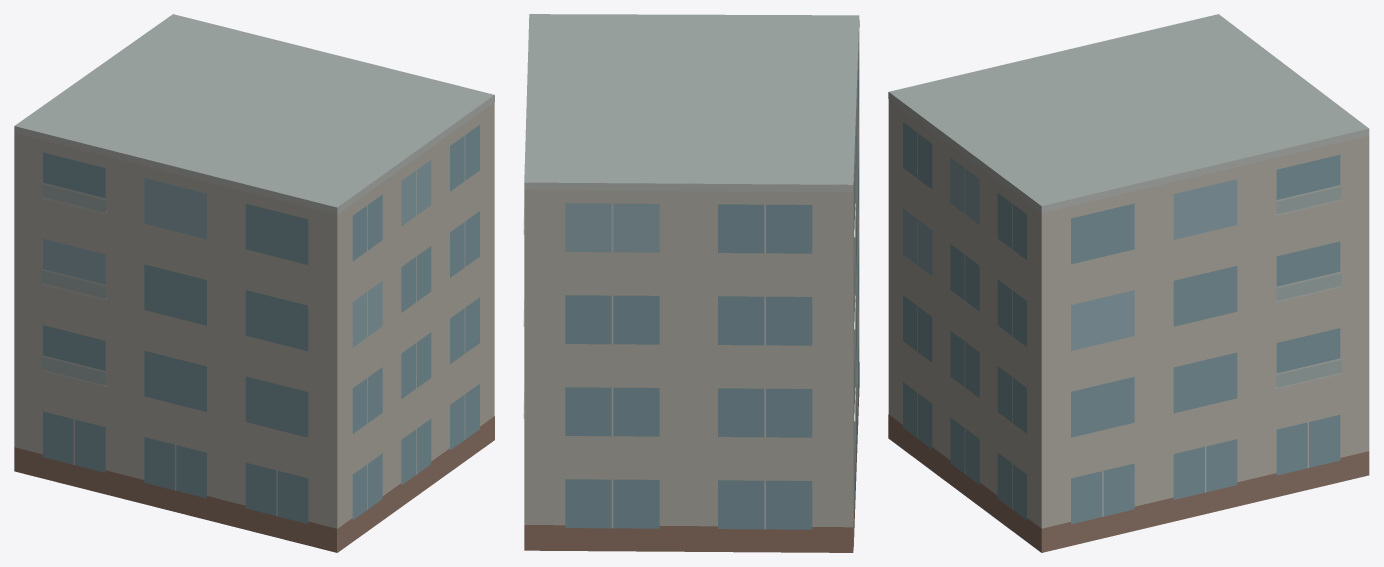
Rendered from survey-upis-32664541.glb.
The picture shows the model from 3 angles, left to right: view 1: azimuth 30°, elevation 25°; view 2: azimuth 150°, elevation 25°; view 3: azimuth 270°, elevation 25°; orthographic projection. The views are drawn at different scales.
Visible parts, largest first — view 1: survey-upis-32664541.tmp; view 2: survey-upis-32664541.tmp; view 3: survey-upis-32664541.tmp.
Part boxes in pixels (left/top/right/bottom): survey-upis-32664541.tmp: left=14, top=14, right=494, bottom=552; survey-upis-32664541.tmp: left=523, top=14, right=859, bottom=552; survey-upis-32664541.tmp: left=888, top=14, right=1369, bottom=552.
Size of the model in its own units: 14.19 by 11.93 by 15.
